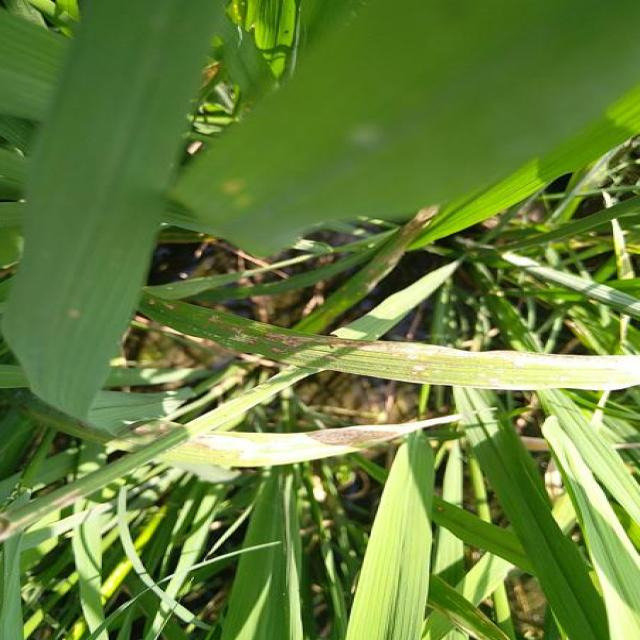Leaf Streak: (183, 301, 640, 390), (147, 412, 464, 467)
